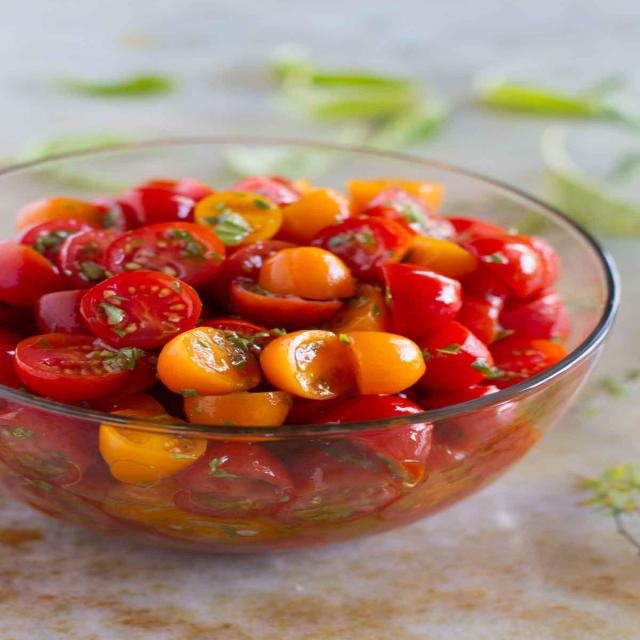Tomato: (79, 272, 203, 342), (18, 327, 144, 388)
